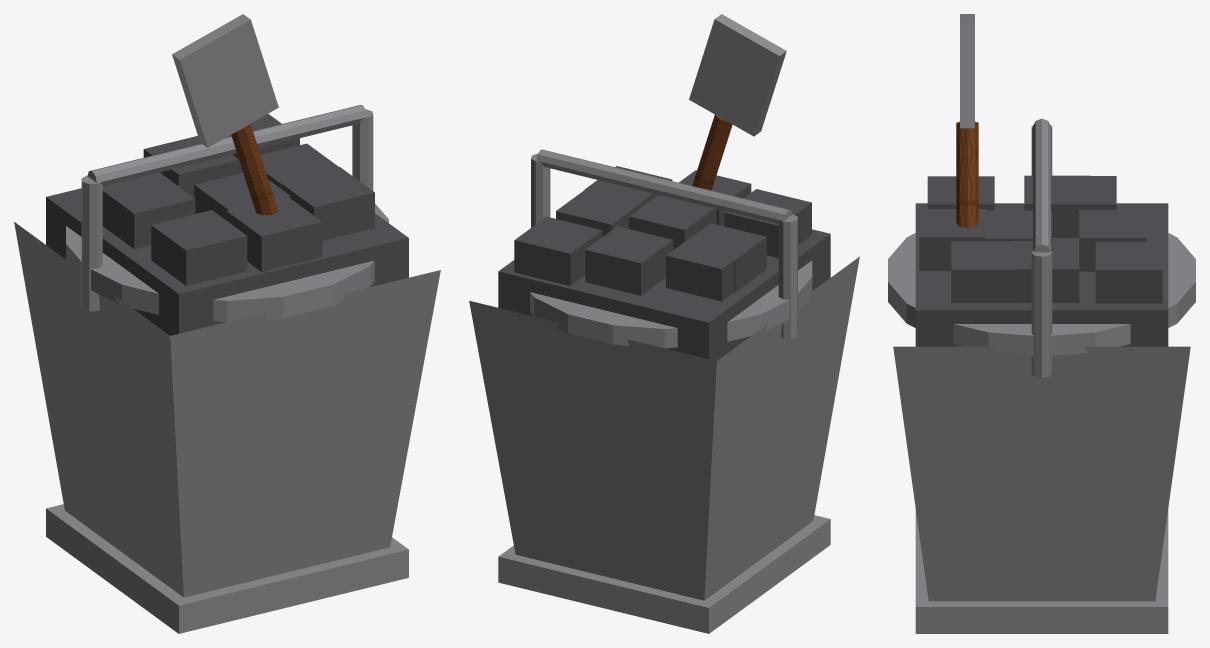
Rendered from blacksmith-forge-and-armoury-blacksmith-forge-and-armo-82037a7f__37563.glb.
3 views of the same model, side by side, from view 1: azimuth 30°, elevation 25°; view 2: azimuth 150°, elevation 25°; view 3: azimuth 270°, elevation 25° (orthographic). The views are drawn at different scales.
Parts seen in each view (by area): view 1: blacksmith-forge-and-armoury-coal-scuttle; view 2: blacksmith-forge-and-armoury-coal-scuttle; view 3: blacksmith-forge-and-armoury-coal-scuttle.
Part boxes in pixels (bbox=[...]): blacksmith-forge-and-armoury-coal-scuttle: bbox=[14, 14, 440, 633]; blacksmith-forge-and-armoury-coal-scuttle: bbox=[469, 14, 859, 633]; blacksmith-forge-and-armoury-coal-scuttle: bbox=[888, 14, 1195, 633].
Size of the model in its own units: 0.428 by 0.8103 by 0.4136.
3 materials, 1 textured.
